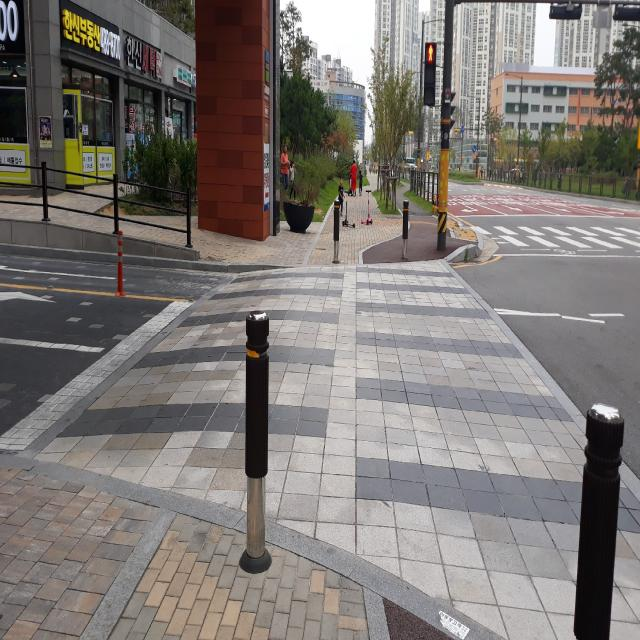빨간불: (423, 42, 437, 106)
횡단보도: (474, 221, 640, 254)
